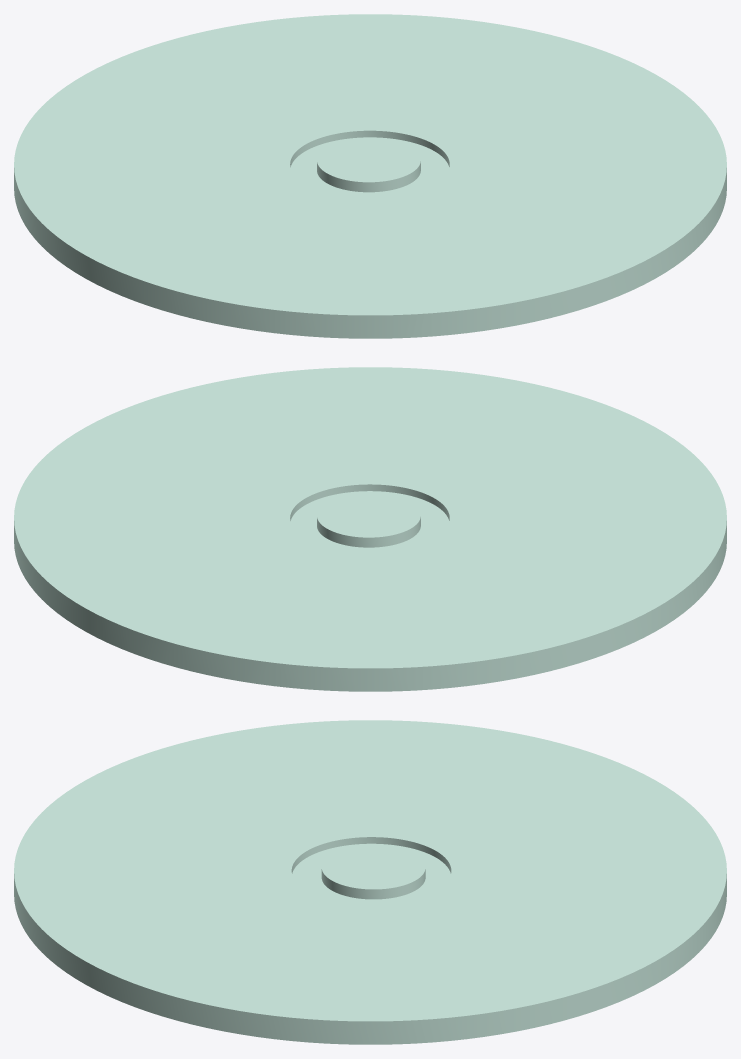
The picture shows the model from 3 angles, top to bottom: view 1: azimuth 30°, elevation 25°; view 2: azimuth 150°, elevation 25°; view 3: azimuth 270°, elevation 25°; orthographic projection.
Visible parts, largest first — view 1: Renderer Node; view 2: Renderer Node; view 3: Renderer Node.
Boxes of the visible parts, box(x1,y1,x2,y2) form: Renderer Node: box(14, 14, 726, 338); Renderer Node: box(14, 367, 726, 691); Renderer Node: box(14, 720, 726, 1044).
Size of the model in its own units: 1.52 by 0.0625 by 1.52.
